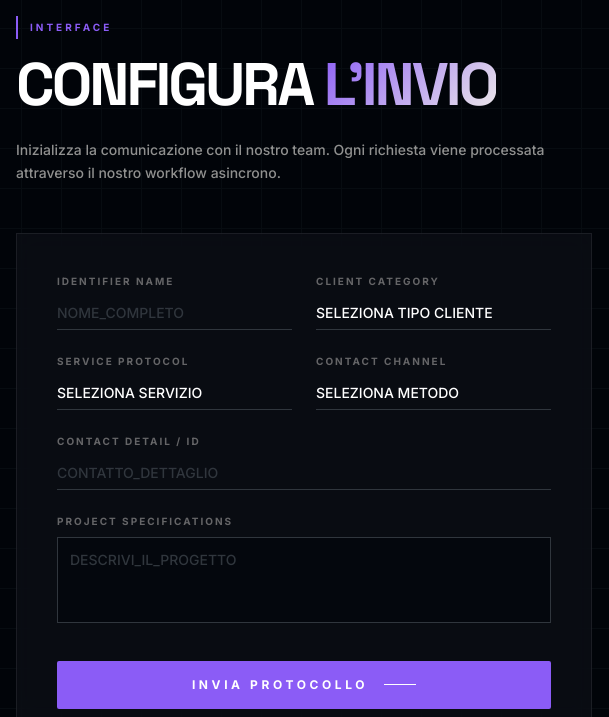
Test: ContactForm › shows success message after form submission
The image size is (609, 717).
Type "Test User" into the field labelled "Identifier Name". click: (174, 313)
box: [57,296,292,330]
Select "PMI" in the dropdown labelled "Client Category". click: (434, 313)
box: [316,296,551,330]
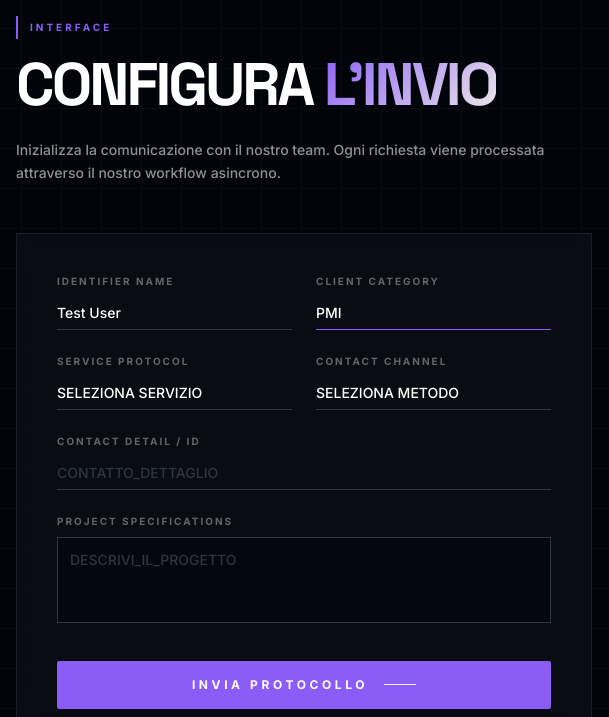
Select "WEB APP" in the dropdown labelled "Service Protocol". click: (174, 393)
box: [57,376,292,410]
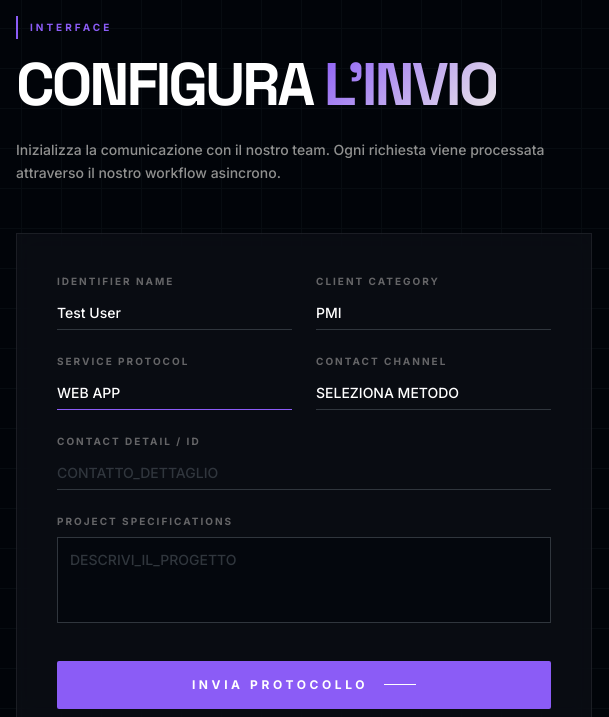
Select "EMAIL" in the dropdown labelled "Contact Channel". click: (434, 393)
box: [316,376,551,410]
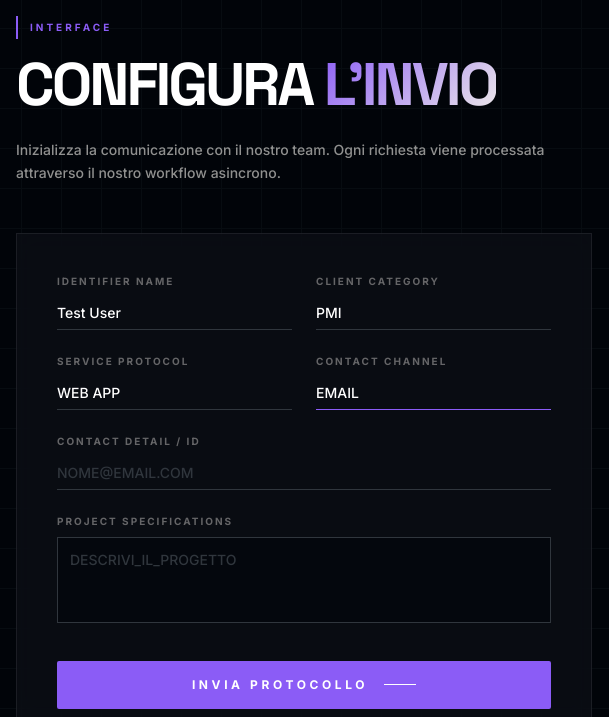
Type "test@email.com" into the field labelled "Contact Detail / ID". click: (304, 473)
box: [57,456,551,490]
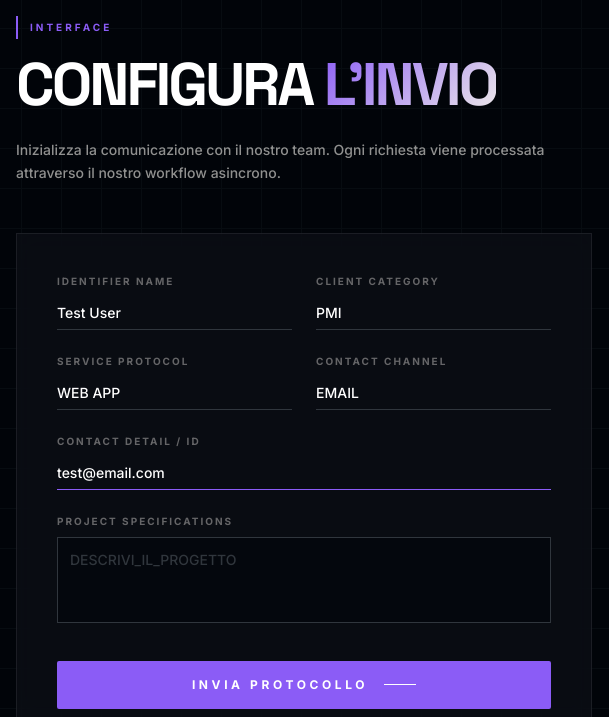
Type "Test project description" into the text box labelled "Project Specifications". click: (304, 580)
box: [57,536,551,622]
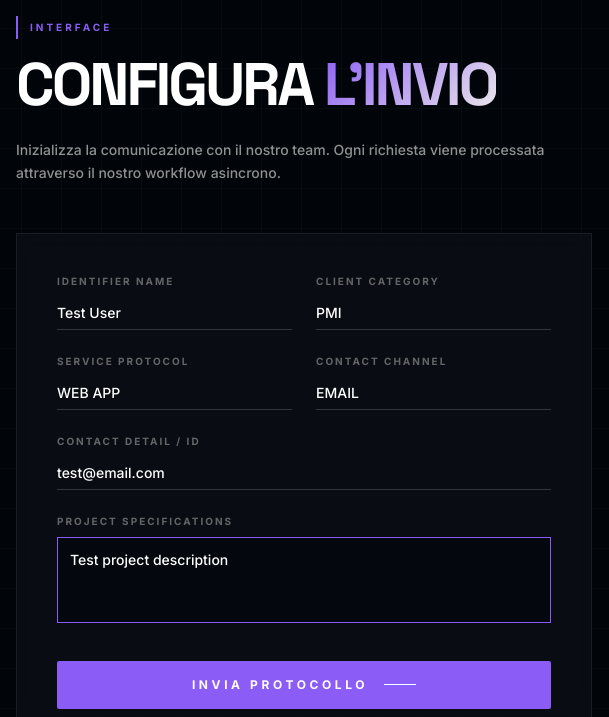
Click the button "Invia Protocollo". click: (304, 684)
box: [57,660,551,708]
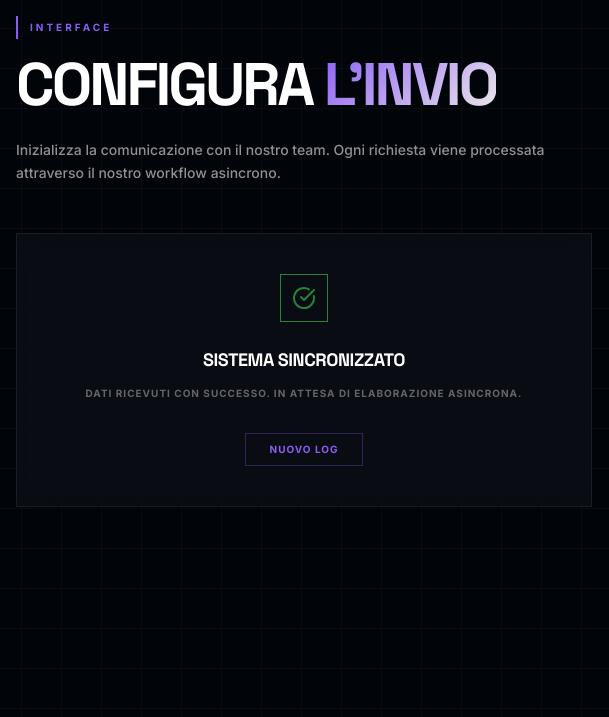
Expected: the heading "SISTEMA SINCRONIZZATO" is shown, [203,348,405,370]
